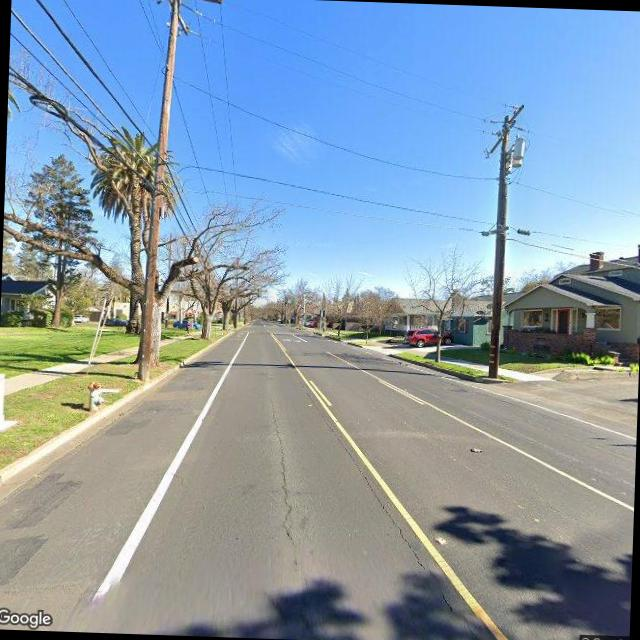pothole: (322, 423, 436, 574), (262, 397, 300, 548)
